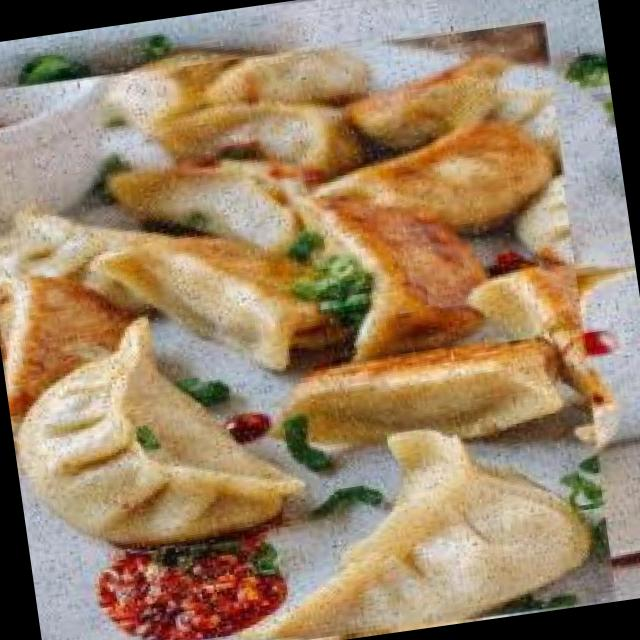fried_dumplings: (0, 10, 627, 640)
